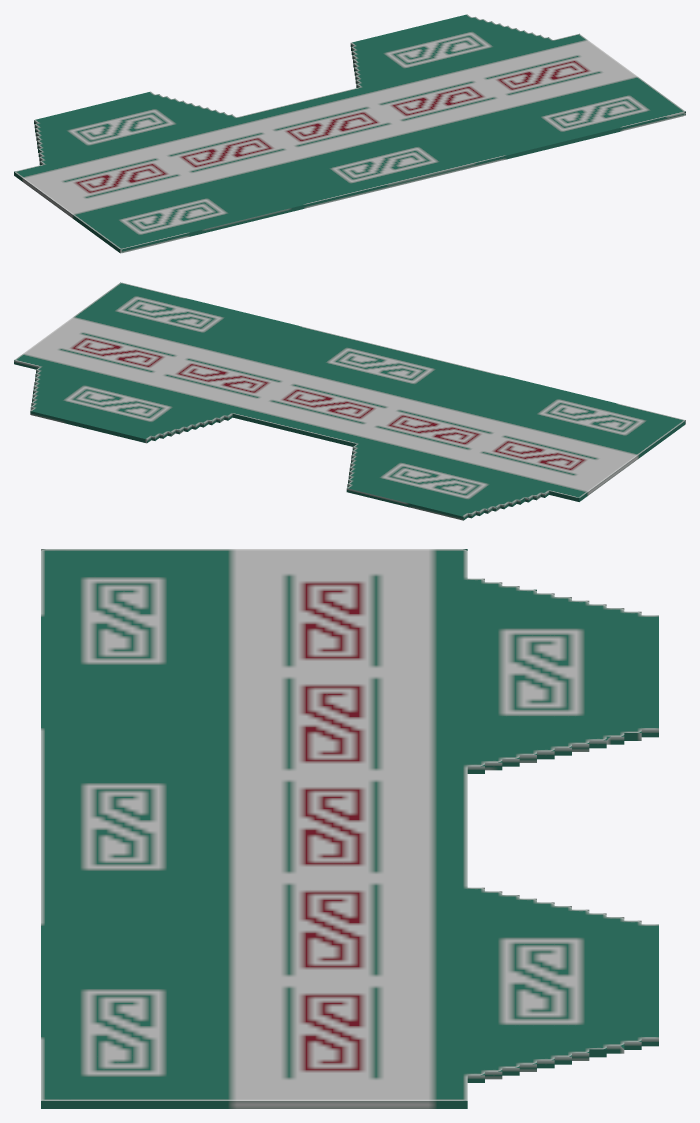
Rendered from RampaMarajoara1.fbx.
3 renders of one model, top to bottom at view 1: azimuth 30°, elevation 25°; view 2: azimuth 150°, elevation 25°; view 3: azimuth 270°, elevation 25°, orthographic. The views are drawn at different scales.
Visible parts, largest first — view 1: RampaMarajoara1.001; view 2: RampaMarajoara1.001; view 3: RampaMarajoara1.001.
Boxes of the visible parts, left/top/right/bottom form: RampaMarajoara1.001: left=14, top=14, right=685, bottom=253; RampaMarajoara1.001: left=14, top=282, right=685, bottom=520; RampaMarajoara1.001: left=41, top=549, right=658, bottom=1108.
Bounding box in the file's own units: 15 × 0.1 × 7.1.
1 material, 1 textured.
